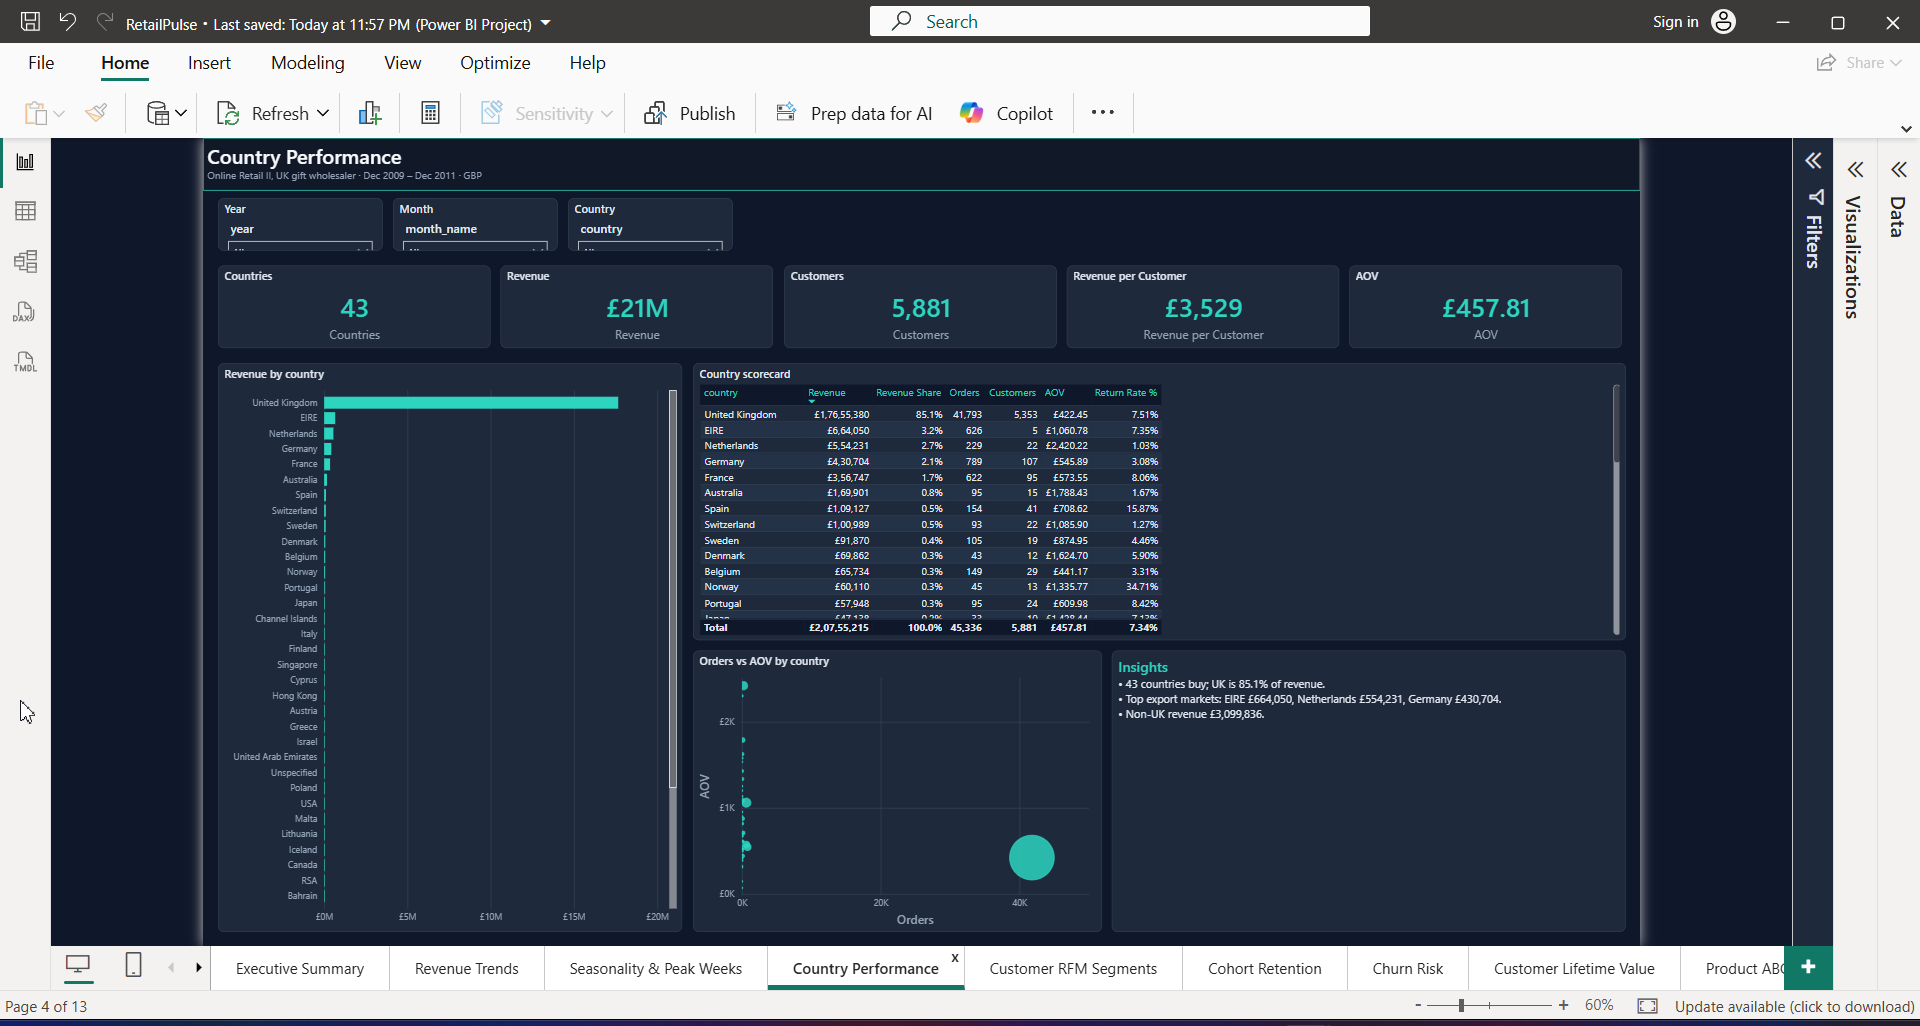

The dashboard page shown, as its layout file describes it:
{"tool":"powerbi","page":{"name":"Country Performance","canvas":[1920,1080],"ordinal":3},"visuals":[{"type":"textbox","box":[0,0,1920,70],"z":0},{"type":"slicer","title":"Year","fields":{"Values":["dim_date.year"]},"box":[20,80,220,70],"z":1000},{"type":"slicer","title":"Month","fields":{"Values":["dim_date.month_name"]},"box":[254,80,220,70],"z":2000},{"type":"slicer","title":"Country","fields":{"Values":["dim_country.country"]},"box":[488,80,220,70],"z":3000},{"type":"card","title":"Countries","fields":{"Values":["_Measures.Countries"]},"box":[20,170,364,110],"z":4000},{"type":"card","title":"Revenue","fields":{"Values":["_Measures.Revenue"]},"box":[398,170,364,110],"z":5000},{"type":"card","title":"Customers","fields":{"Values":["_Measures.Customers"]},"box":[776,170,364,110],"z":6000},{"type":"card","title":"Revenue per Customer","fields":{"Values":["_Measures.Revenue per Customer"]},"box":[1154,170,364,110],"z":7000},{"type":"card","title":"AOV","fields":{"Values":["_Measures.AOV"]},"box":[1532,170,364,110],"z":8000},{"type":"clusteredBarChart","title":"Revenue by country","fields":{"Category":["dim_country.country"],"Y":["_Measures.Revenue"]},"box":[20,300,620,760],"z":9000},{"type":"tableEx","title":"Country scorecard","fields":{"Values":["dim_country.country","_Measures.Revenue","_Measures.Revenue Share","_Measures.Orders","_Measures.Customers","_Measures.AOV","_Measures.Return Rate %"]},"box":[654,300,1246,370],"z":10000},{"type":"scatterChart","title":"Orders vs AOV by country","fields":{"Category":["dim_country.country"],"Size":["_Measures.Revenue"],"X":["_Measures.Orders"],"Y":["_Measures.AOV"]},"box":[654,684,546,376],"z":11000},{"type":"textbox","box":[1214,684,686,376],"z":12000}]}

Visuals, with their boxes on the page's 1920x1080 design canvas (x1, y1, x2, y2). These are canvas units, not pixel positions in the 1920x1026 screenshot, which may show the page scaled, cropped or inside an application window:
textbox: (0,0,1920,70)
"Year" slicer: (20,80,240,150)
"Month" slicer: (254,80,474,150)
"Country" slicer: (488,80,708,150)
"Countries" card: (20,170,384,280)
"Revenue" card: (398,170,762,280)
"Customers" card: (776,170,1140,280)
"Revenue per Customer" card: (1154,170,1518,280)
"AOV" card: (1532,170,1896,280)
"Revenue by country" clusteredBarChart: (20,300,640,1060)
"Country scorecard" tableEx: (654,300,1900,670)
"Orders vs AOV by country" scatterChart: (654,684,1200,1060)
textbox: (1214,684,1900,1060)
